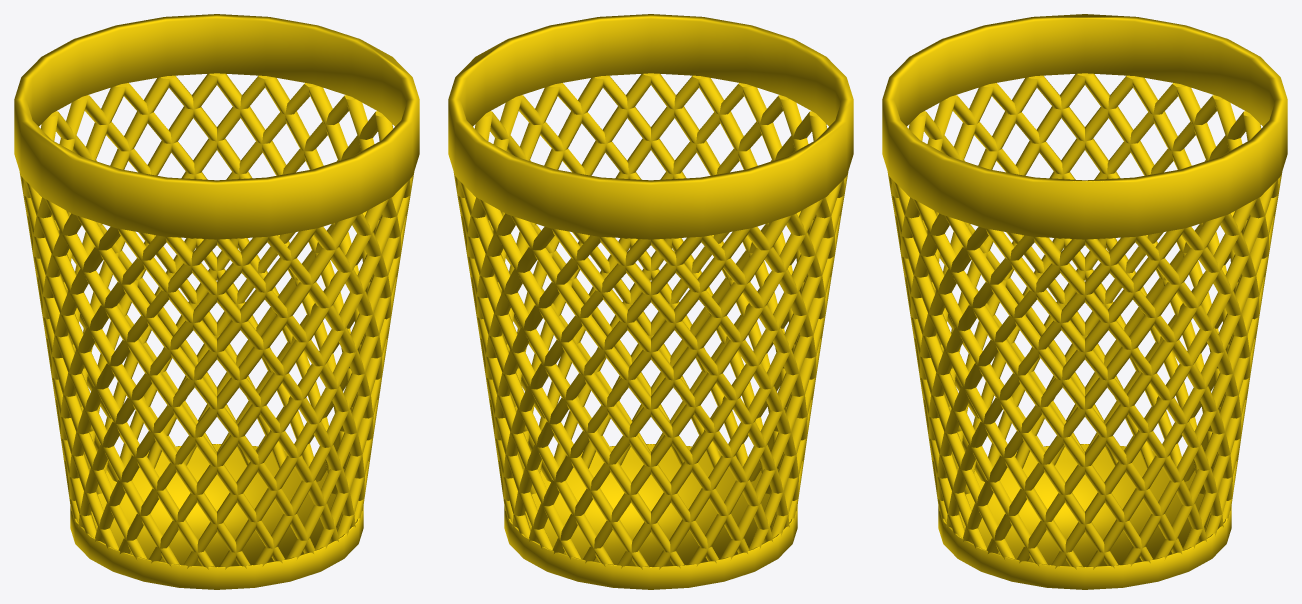
File: lixo amarelo.fbx
3 views of the same model, side by side, from view 1: azimuth 30°, elevation 25°; view 2: azimuth 150°, elevation 25°; view 3: azimuth 270°, elevation 25° (orthographic).
Parts seen in each view (by area): view 1: Model, Group2, Group14, Group21, Group5, Group20, Group11, Group17, Group13, Group19, Group22, Group6 (+14 smaller); view 2: Model, Group2, Group8, Group27, Group7, Group18, Group4, Group24, Group6, Group9, Group19, Group26 (+14 smaller); view 3: Model, Group2, Group15, Group28, Group12, Group25, Group10, Group23, Group9, Group22, Group13, Group26 (+14 smaller).
Part boxes in pixels (x1,y1,x2,y2): Model: [14, 14, 419, 239]; Group2: [70, 444, 363, 589]; Group14: [78, 95, 357, 553]; Group21: [76, 95, 351, 553]; Group5: [49, 111, 388, 563]; Group20: [45, 112, 384, 563]; Group11: [95, 83, 329, 543]; Group17: [104, 84, 338, 543]; Group13: [78, 75, 344, 527]; Group19: [89, 75, 355, 527]; Group22: [25, 180, 337, 568]; Group6: [96, 180, 408, 568]; Model: [448, 14, 853, 239]; Group2: [504, 444, 797, 589]; Group8: [512, 95, 791, 553]; Group27: [510, 96, 789, 553]; Group7: [483, 111, 822, 563]; Group18: [479, 112, 815, 563]; Group4: [529, 83, 763, 543]; Group24: [538, 83, 772, 543]; Group6: [512, 75, 778, 527]; Group9: [530, 180, 842, 568]; Group19: [459, 180, 771, 568]; Group26: [523, 75, 789, 527]; Model: [882, 14, 1287, 239]; Group2: [938, 444, 1231, 589]; Group15: [946, 95, 1225, 553]; Group28: [944, 96, 1223, 553]; Group12: [917, 111, 1256, 563]; Group25: [913, 112, 1249, 563]; Group10: [963, 83, 1197, 543]; Group23: [972, 83, 1206, 543]; Group9: [946, 75, 1212, 527]; Group22: [957, 76, 1223, 527]; Group13: [964, 180, 1276, 568]; Group26: [893, 180, 1205, 568].
Size of the model in its own units: 378 by 441 by 378.
